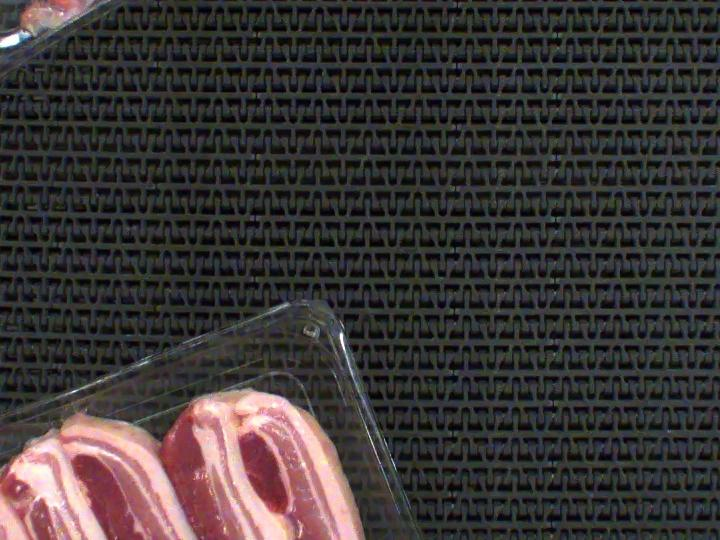packaging-error: (49, 398, 92, 419)
